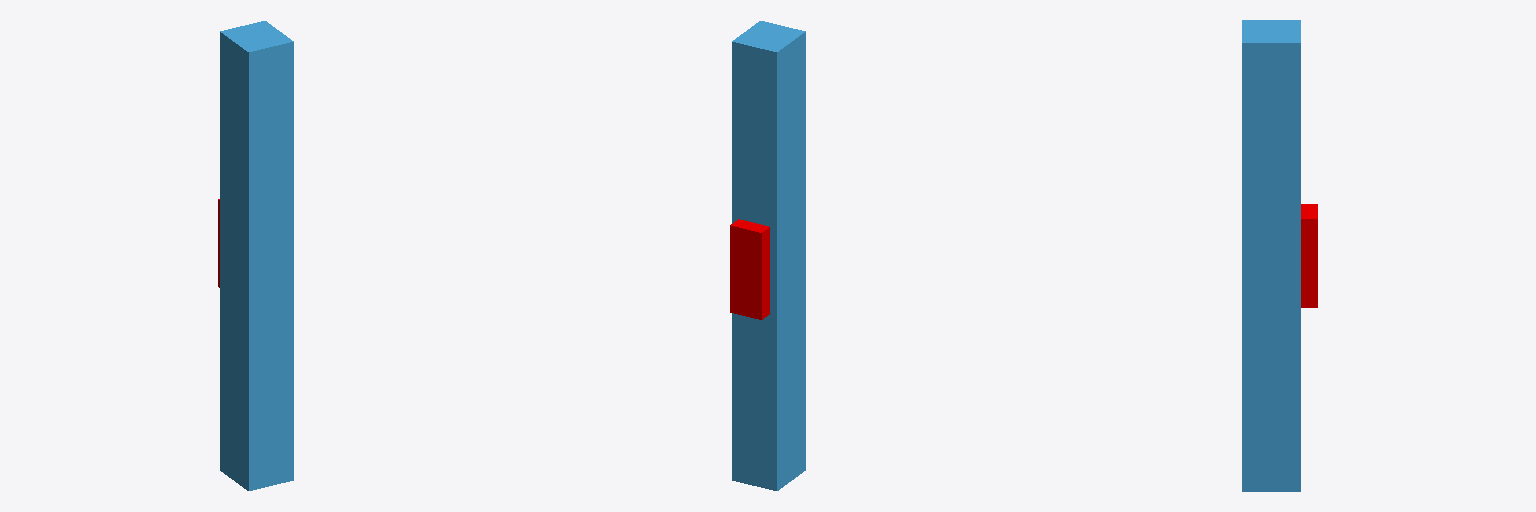
The robot description file, URDF, robot "knife":
<?xml version='1.0' encoding='utf-8'?>
<robot name="knife">
  <link name="link_1">
    <visual name="link_1">
      <origin xyz="0 0.011777 0" rpy="0 0 0" />
      <geometry>
        <box size="0.011486283025687995 0.005419367285443063 0.030348071099996043" /></geometry>
    <material name="red"><color rgba="1 0 0 1" /></material></visual>
    <collision>
      <origin xyz="0 0.011777 0" rpy="0 0 0" />
      <geometry>
        <box size="0.011486283025687995 0.005419367285443063 0.030348071099996043" /></geometry>
    </collision>
    </link>
  <joint name="joint_1" type="prismatic">
    <origin xyz="0 0 0" />
    <axis xyz="0 0 1" />
    <child link="link_1" />
    <parent link="link_0" />
    <limit lower="-0.043623" upper="0.006377" effort="100.0" velocity="1.0" />
  </joint>
  <link name="link_0">
    <visual name="link_0">
      <origin xyz="0 0 0" />
      <geometry>
        <box size="0.01648412834228956 0.01813382844690975 0.15274164922488254" /></geometry>
    </visual>
    <collision>
      <origin xyz="0 0 0" />
      <geometry>
        <box size="0.01648412834228956 0.01813382844690975 0.15274164922488254" /></geometry>
    </collision>
    </link>
</robot>

--- Render facts (derived) ---
Views: 3 orthographic renders of the robot side by side, from view 1: azimuth 30°, elevation 25°; view 2: azimuth 150°, elevation 25°; view 3: azimuth 270°, elevation 25°.
Robot: knife — 2 links, 1 joints (1 prismatic); root link link_0; default pose: all joints at 0.
Links seen in each view (by area): view 1: link_0; view 2: link_0, link_1; view 3: link_0, link_1.
Boxes of the visible links, left/top/right/bottom form: link_0: left=220, top=21, right=293, bottom=490; link_0: left=732, top=21, right=805, bottom=490; link_1: left=730, top=219, right=769, bottom=319; link_0: left=1242, top=20, right=1300, bottom=491; link_1: left=1301, top=204, right=1317, bottom=307.
Size in the robot's own frame: 0.0165 by 0.0236 by 0.1527 metres.
Geometry: primitives only (box / cylinder / sphere), no mesh files.
